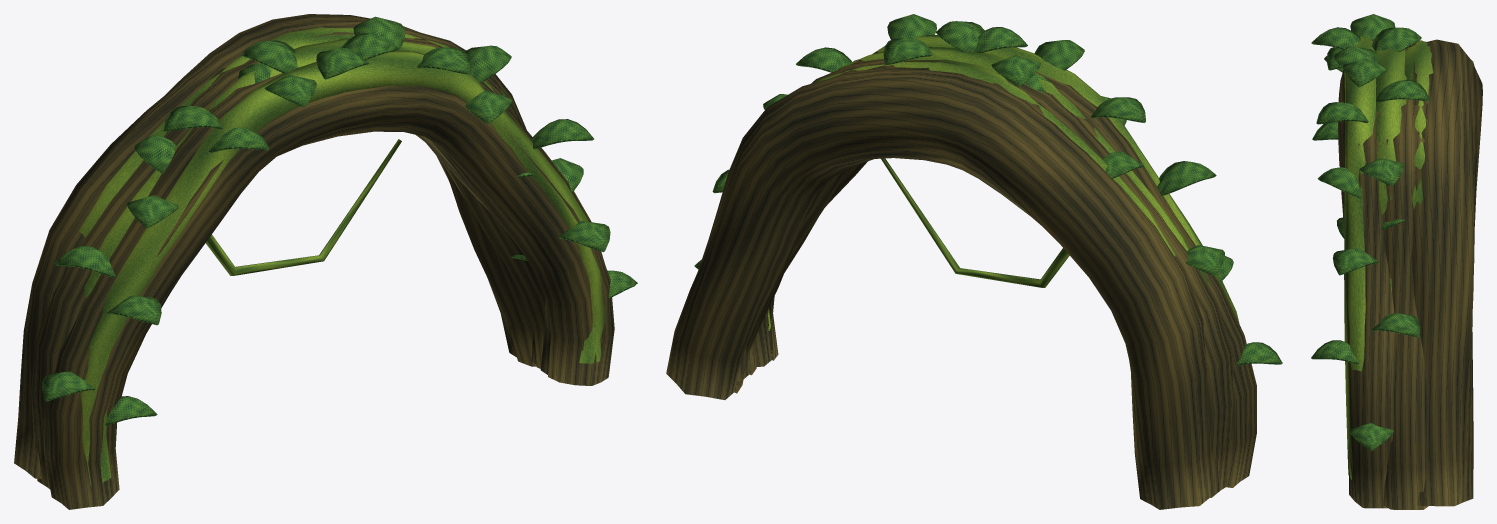
The model's file is living-arch.glb.
3 renders of one model, left to right at view 1: azimuth 30°, elevation 25°; view 2: azimuth 150°, elevation 25°; view 3: azimuth 270°, elevation 25°, orthographic. The views are drawn at different scales.
Visible parts, largest first — view 1: living-arch_bark, living-arch_moss, living-arch_leaf; view 2: living-arch_bark, living-arch_leaf, living-arch_moss; view 3: living-arch_bark, living-arch_leaf, living-arch_moss.
Boxes of the visible parts, bbox=[...] form: living-arch_bark: bbox=[14, 14, 614, 509]; living-arch_moss: bbox=[79, 27, 605, 485]; living-arch_leaf: bbox=[42, 16, 637, 425]; living-arch_bark: bbox=[666, 52, 1256, 509]; living-arch_leaf: bbox=[694, 14, 1282, 365]; living-arch_moss: bbox=[768, 35, 1239, 330]; living-arch_bark: bbox=[1338, 39, 1482, 509]; living-arch_leaf: bbox=[1311, 14, 1429, 451]; living-arch_moss: bbox=[1342, 36, 1433, 479].
Bounding box in the file's own units: 3.06 × 1.96 × 0.8719.
3 materials, 3 textured.
